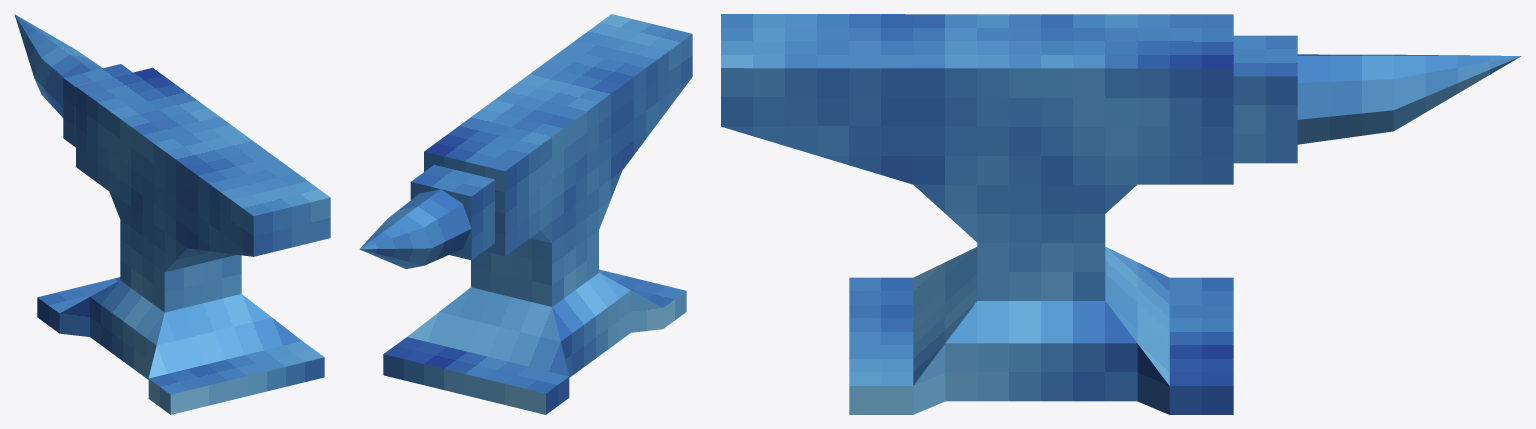
Rendered from anvil_schrabidate.obj.
The picture shows the model from 3 angles, left to right: view 1: azimuth 30°, elevation 25°; view 2: azimuth 150°, elevation 25°; view 3: azimuth 270°, elevation 25°; orthographic projection. The views are drawn at different scales.
Parts seen in each view (by area): view 1: Left, Top, Back; view 2: Left, Top, Front; view 3: Right, Top, Front, Back.
Boxes of the visible parts, x1=… form: Left: x1=15, y1=15, x2=253, y2=414; Top: x1=14, y1=14, x2=330, y2=394; Back: x1=148, y1=197, x2=330, y2=414; Left: x1=360, y1=34, x2=692, y2=414; Top: x1=360, y1=14, x2=692, y2=393; Front: x1=383, y1=151, x2=569, y2=414; Right: x1=721, y1=56, x2=1520, y2=414; Top: x1=721, y1=14, x2=1520, y2=385; Front: x1=1105, y1=247, x2=1169, y2=385; Back: x1=913, y1=247, x2=977, y2=385.
Size of the model in its own units: 0.5 by 0.6885 by 1.56.
